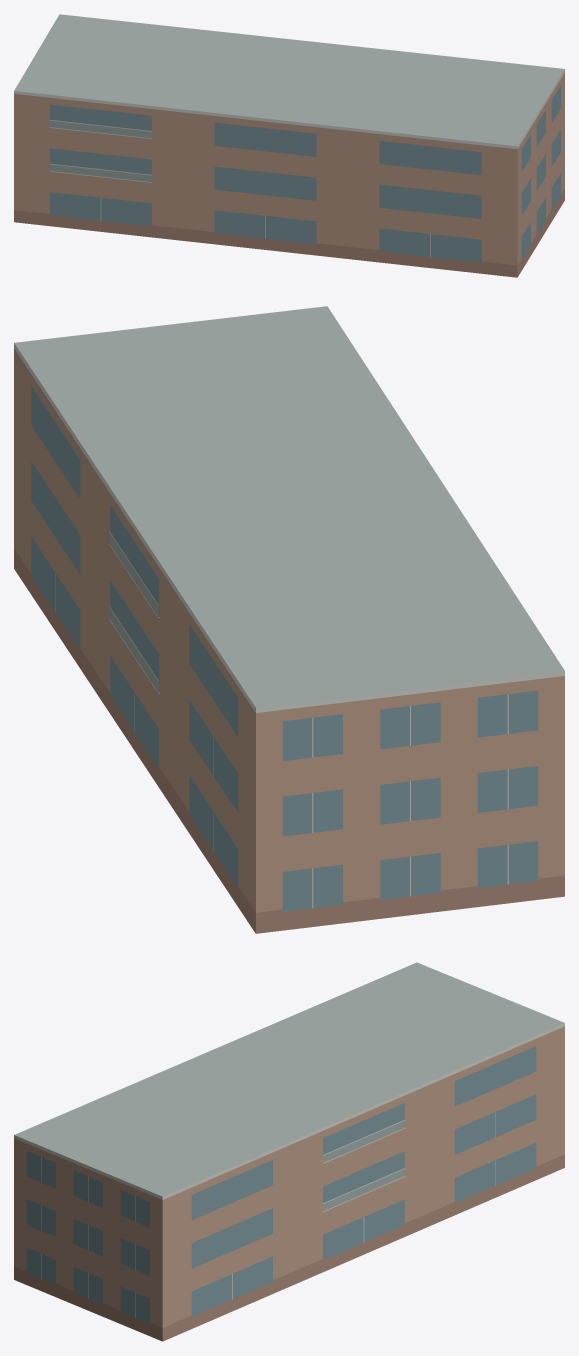
File: survey-upis-32934150.glb
3 views of the same model, one above another, from view 1: azimuth 30°, elevation 25°; view 2: azimuth 150°, elevation 25°; view 3: azimuth 270°, elevation 25° (orthographic). The views are drawn at different scales.
Visible parts, largest first — view 1: survey-upis-32934150.tmp; view 2: survey-upis-32934150.tmp; view 3: survey-upis-32934150.tmp.
Boxes of the visible parts, x1,y1,x2,y2 form: survey-upis-32934150.tmp: (14, 14, 564, 277); survey-upis-32934150.tmp: (14, 306, 564, 933); survey-upis-32934150.tmp: (14, 962, 564, 1341).
Bounding box in the file's own units: 36.44 × 10.5 × 36.2.
